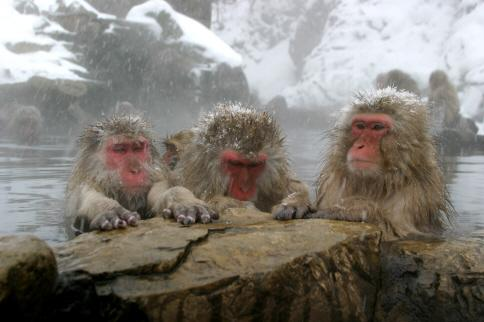monkey: (102, 104, 312, 224)
